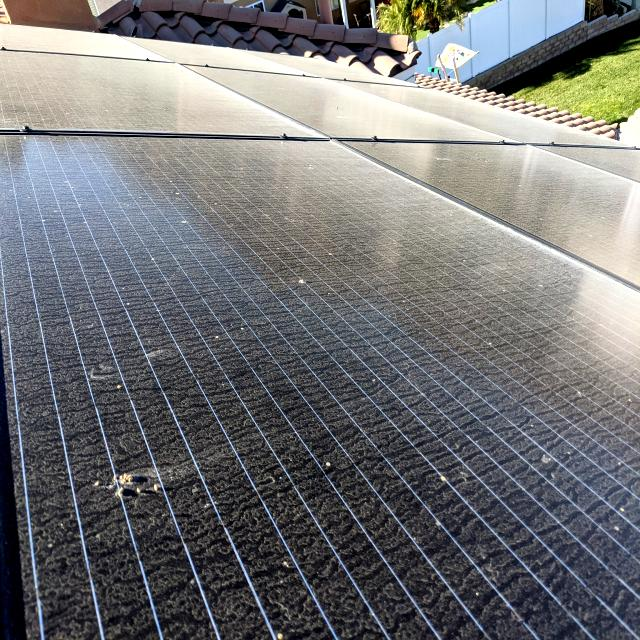bird: (78, 456, 185, 508)
dust: (394, 370, 622, 589), (219, 362, 364, 516), (17, 294, 185, 422), (203, 226, 384, 342), (44, 548, 266, 636), (20, 158, 148, 284), (396, 230, 523, 342), (286, 536, 380, 636), (166, 146, 299, 214), (404, 603, 640, 640), (498, 153, 588, 248), (317, 150, 373, 220), (163, 230, 199, 284)
